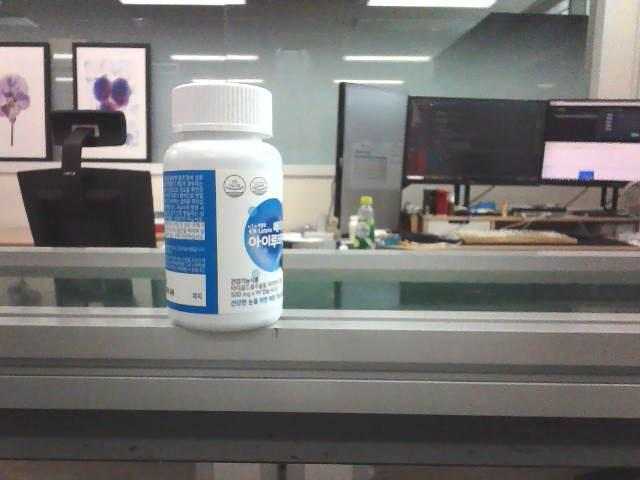labeled: (157, 78, 289, 335)
